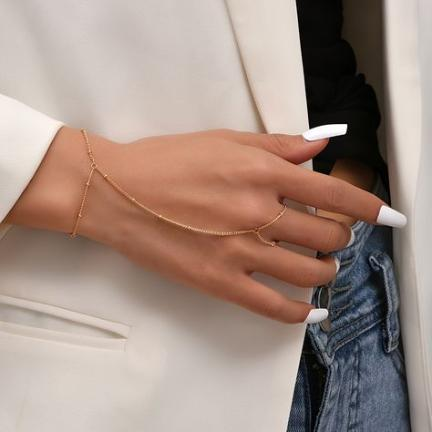Nail: (376, 205, 407, 228), (303, 124, 347, 140), (305, 309, 328, 324)
